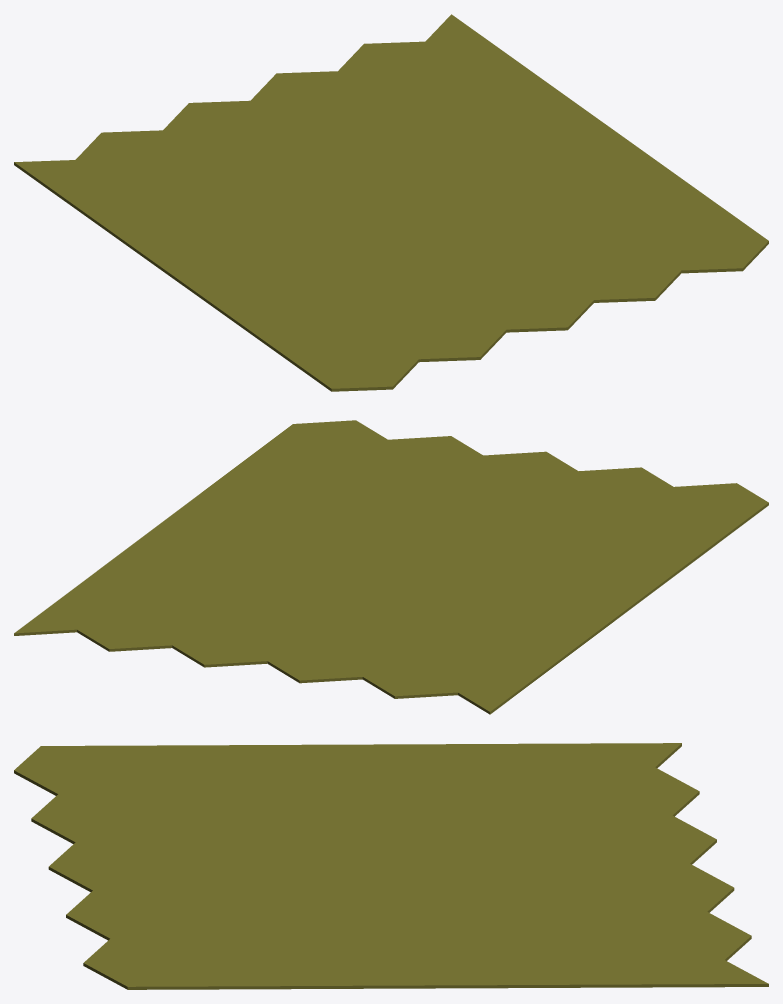
The model's file is Carpet_5.glb.
3 renders of one model, top to bottom at view 1: azimuth 30°, elevation 25°; view 2: azimuth 150°, elevation 25°; view 3: azimuth 270°, elevation 25°, orthographic. The views are drawn at different scales.
Parts seen in each view (by area): view 1: Carpet_5; view 2: Carpet_5; view 3: Carpet_5.
Boxes of the visible parts, left/top/right/bottom form: Carpet_5: left=14, top=14, right=768, bottom=391; Carpet_5: left=14, top=420, right=768, bottom=714; Carpet_5: left=14, top=743, right=768, bottom=989.
Size of the model in its own units: 1.92 by 0.0112 by 2.52.
1 material, 1 textured.
